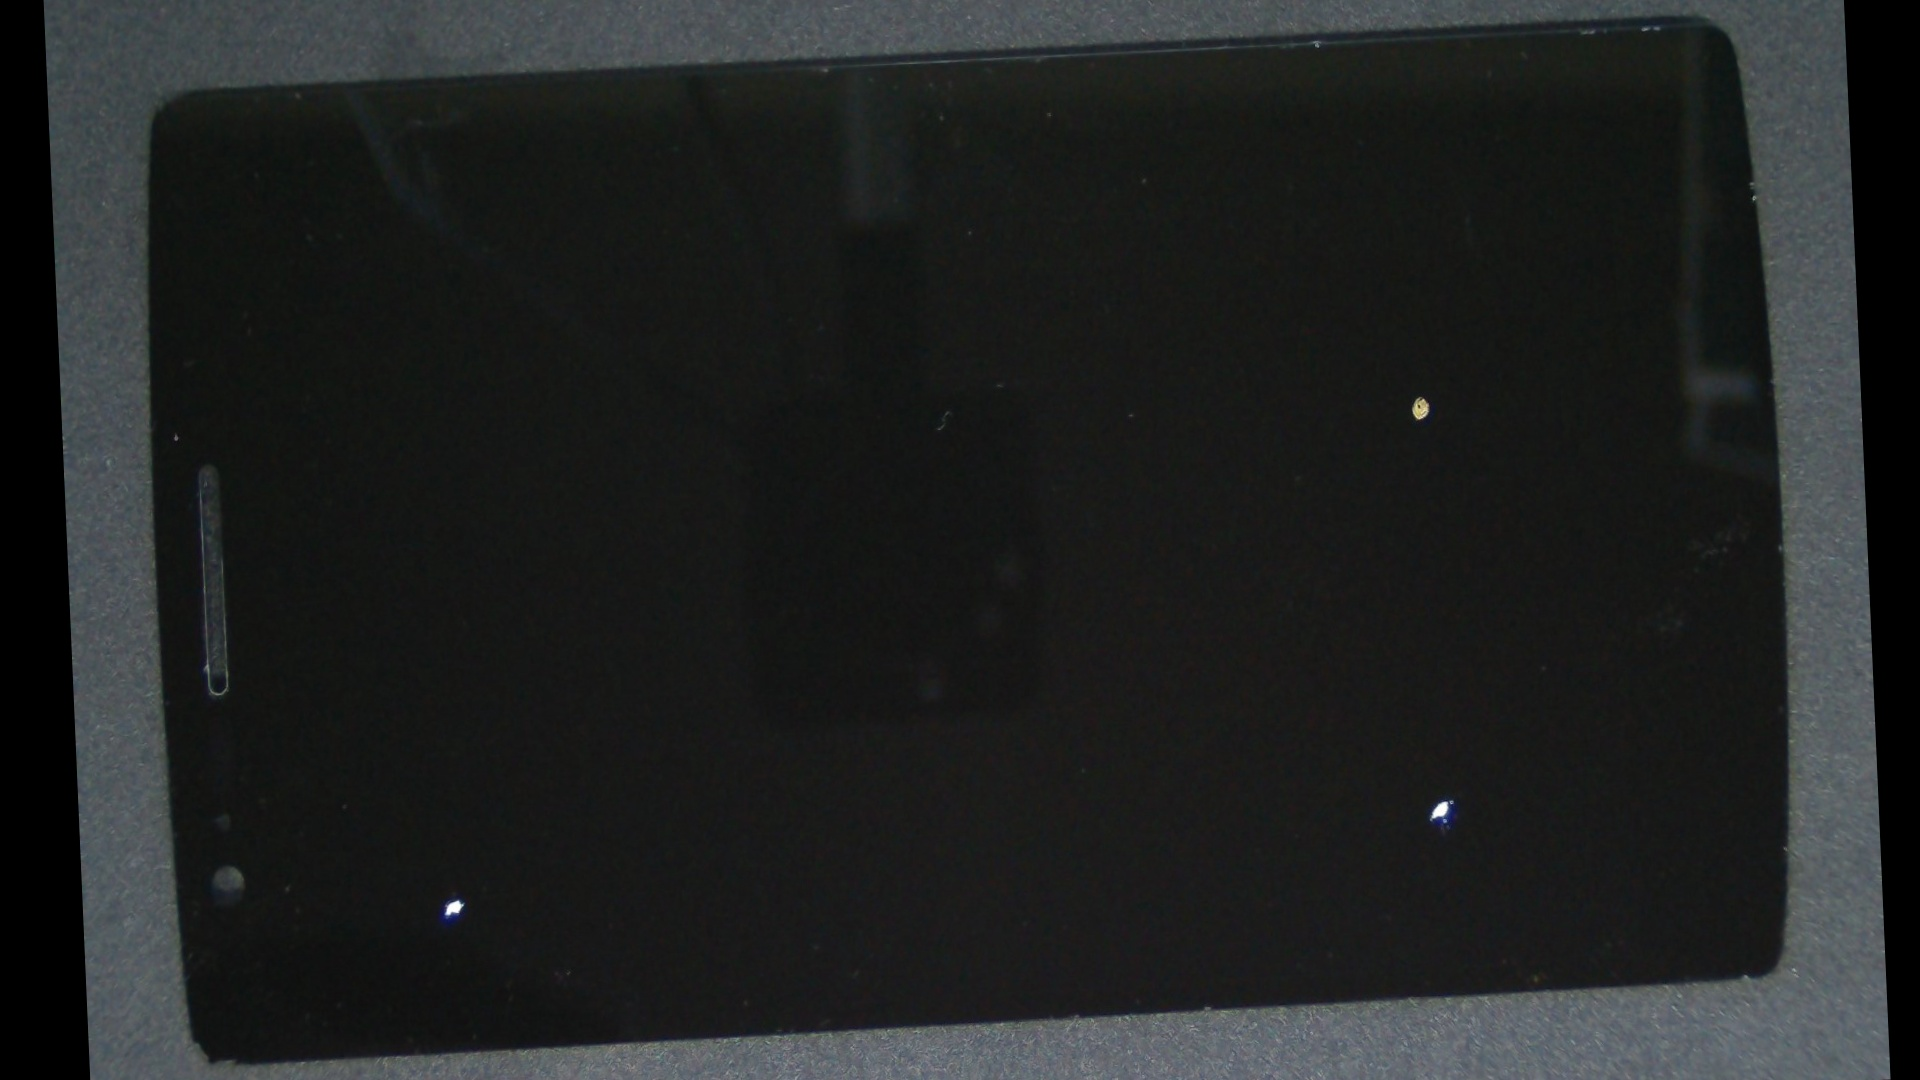oil: (745, 326, 1891, 1080), (733, 124, 1871, 676), (249, 406, 654, 1080)
